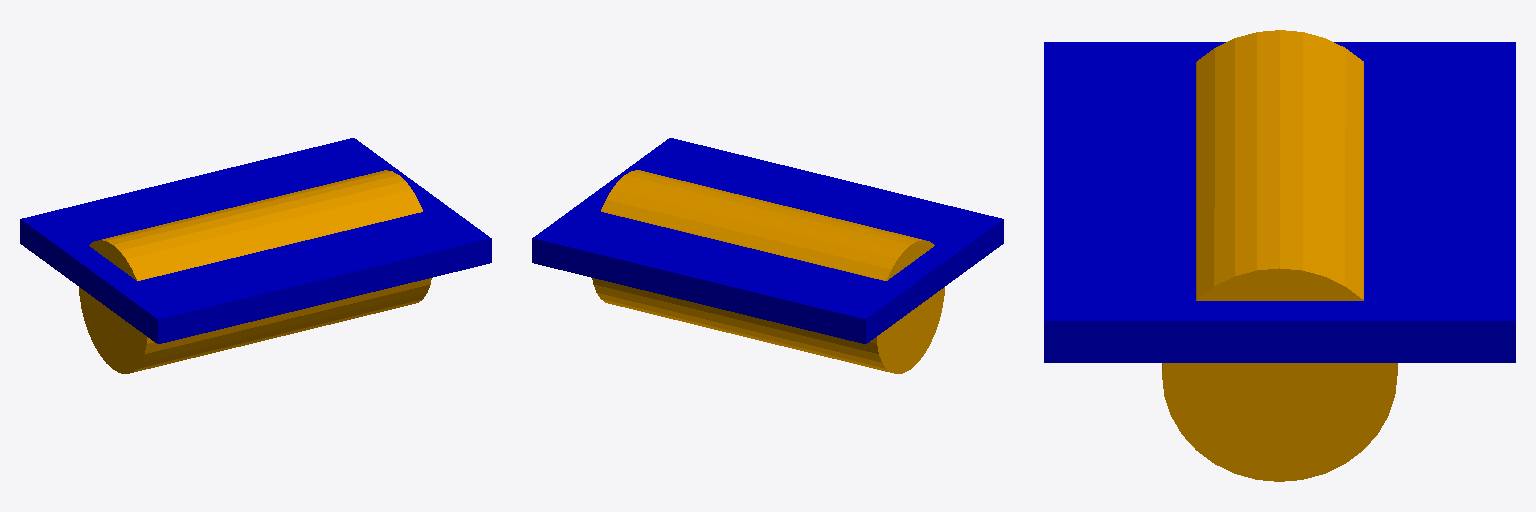
The robot description file, URDF, robot "Bumblebee":
<?xml version="1.0"?>
<robot name="Bumblebee">

  <link name="base_link">
    <visual>
      <origin rpy="1.57 0 1.57" xyz="0 0 0.0625"/>
      <geometry>
        <cylinder length="0.6" radius="0.125"/>
      </geometry>
    </visual>
  </link>

  <link name="plate">
    <visual>
      <geometry>
        <box size="0.7 .5 .05"/>
      </geometry>
      <origin rpy="0 0 0" xyz="0 0 0"/>
      <material name="blue">
        <color rgba="0 0 .8 1"/>
      </material>
    </visual>
  </link>

  <joint name="base_to_plate" type="fixed">
    <parent link="base_link"/>
    <child link="plate"/>
    <origin xyz="0 0 0.125"/>
  </joint>

</robot>

--- Render facts (derived) ---
3 views of the same robot in one strip: view 1: azimuth 30°, elevation 25°; view 2: azimuth 150°, elevation 25°; view 3: azimuth 270°, elevation 25° (orthographic).
Model Bumblebee with 2 links and 1 joints (1 fixed), rooted at base_link, posed all joints at 0.
Links seen in each view (by area): view 1: plate, base_link; view 2: plate, base_link; view 3: plate, base_link.
Link boxes in pixels (left/top/right/bottom): plate: left=20, top=138, right=491, bottom=343; base_link: left=79, top=170, right=431, bottom=373; plate: left=532, top=138, right=1003, bottom=343; base_link: left=592, top=170, right=944, bottom=373; plate: left=1044, top=42, right=1515, bottom=362; base_link: left=1162, top=30, right=1397, bottom=481.
Size in the robot's own frame: 0.7 by 0.5 by 0.2505 metres.
Geometry: primitives only (box / cylinder / sphere), no mesh files.